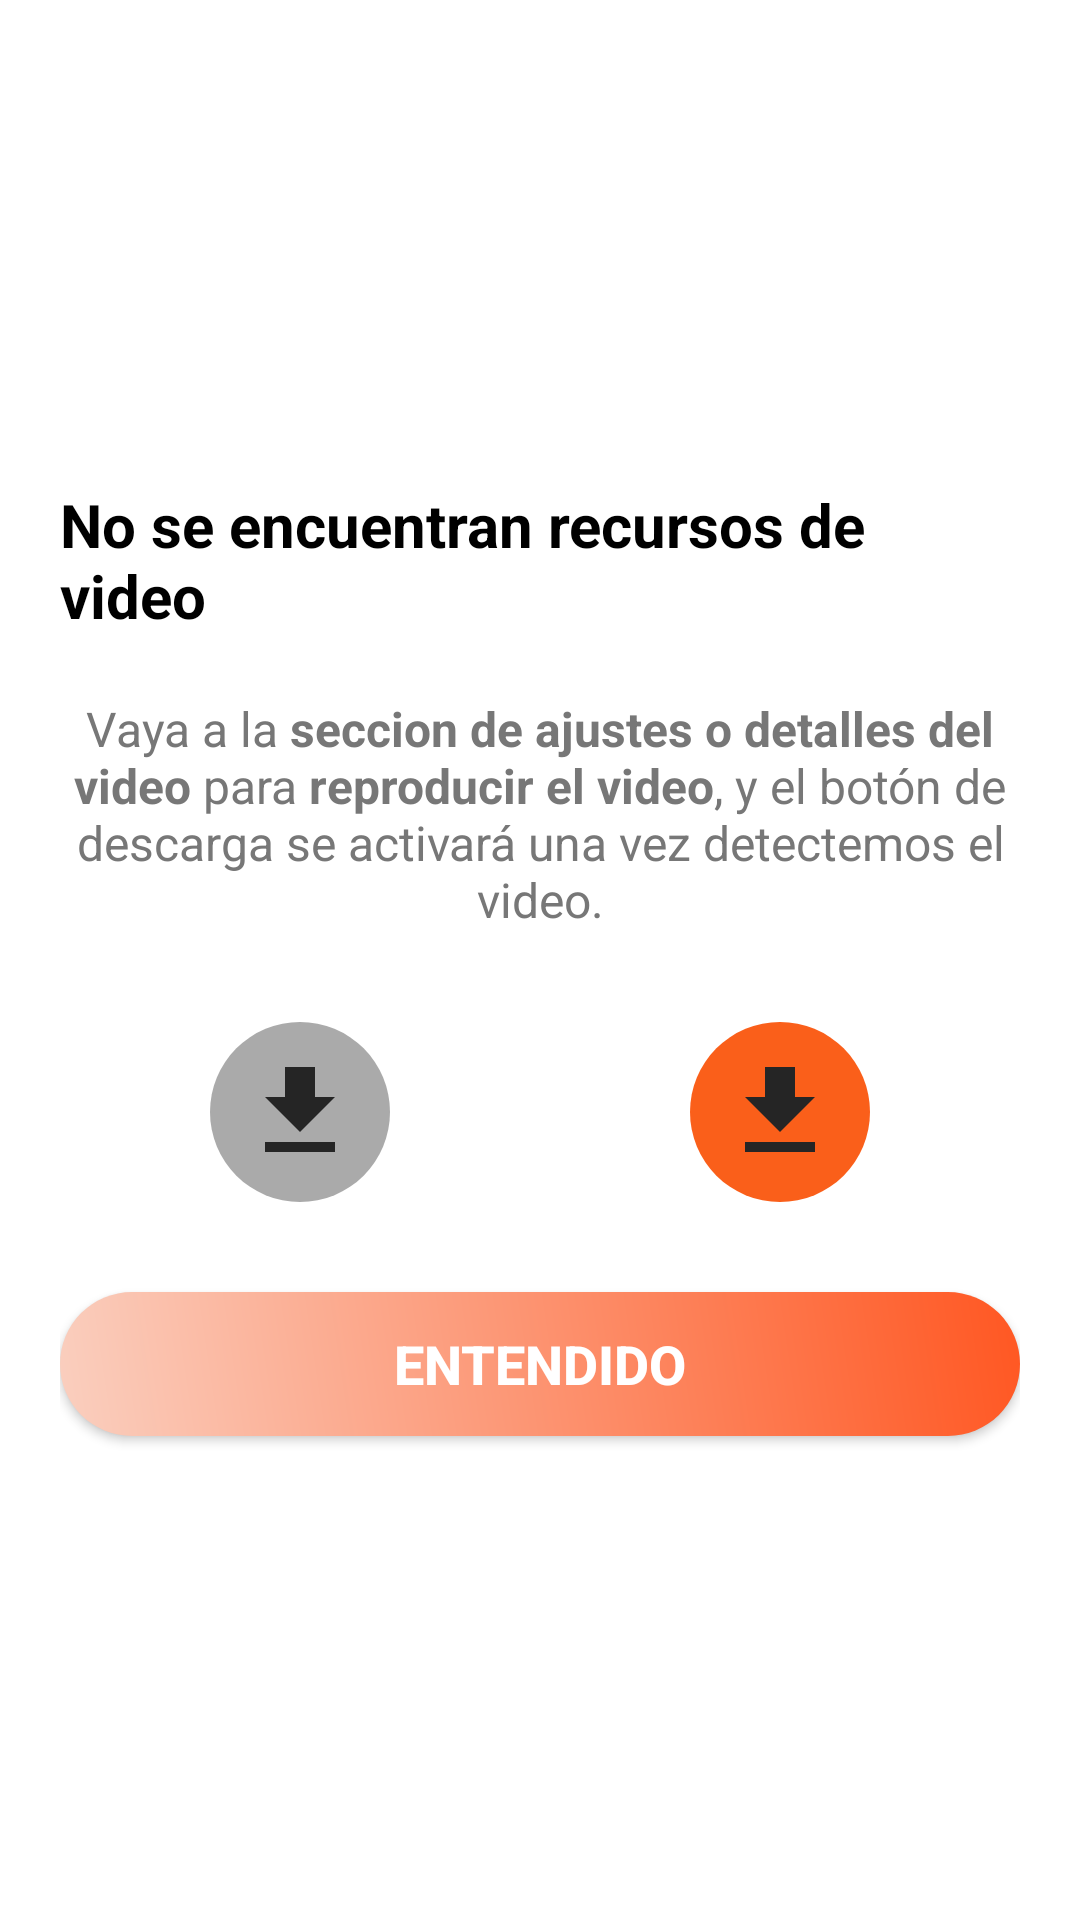

Icon click points for this 1080 x 1920 phone screenshot, format (x=x, y=y):
file download: (x=300, y=1112), (x=780, y=1112)
